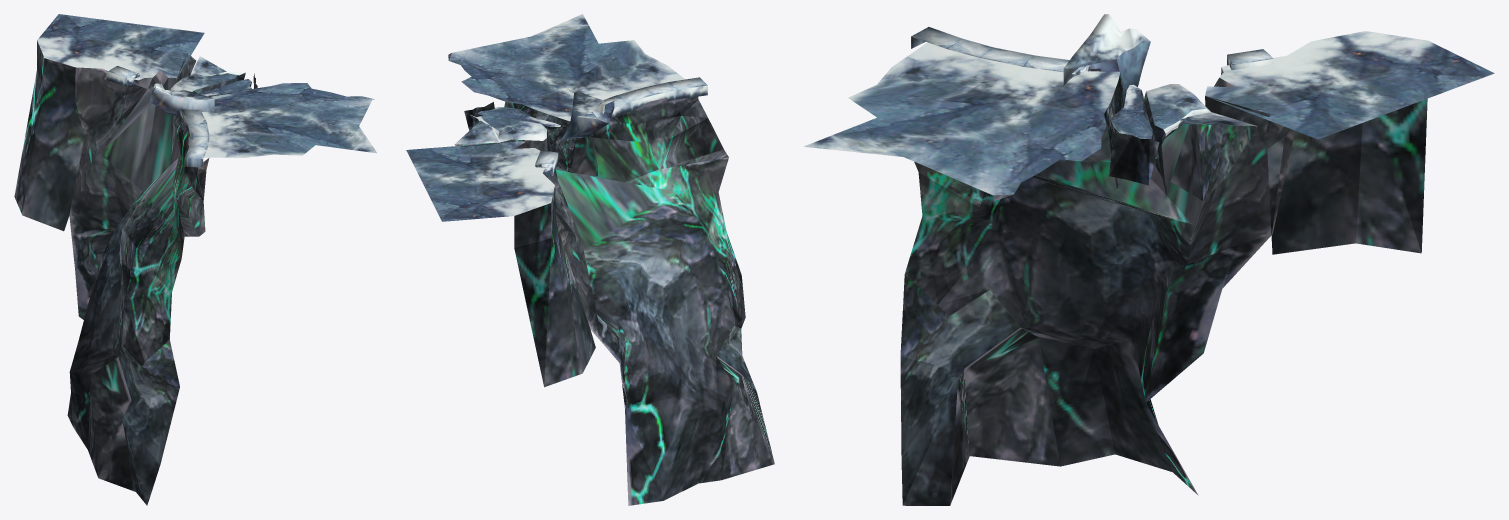
Rendered from S_Build_Snowland206_6.FBX.
3 views of the same model, side by side, from view 1: azimuth 30°, elevation 25°; view 2: azimuth 150°, elevation 25°; view 3: azimuth 270°, elevation 25° (orthographic). The views are drawn at different scales.
Parts seen in each view (by area): view 1: S_Build_Snowland206_6; view 2: S_Build_Snowland206_6; view 3: S_Build_Snowland206_6.
Boxes of the visible parts, box(x1,y1,x2,y2) form: S_Build_Snowland206_6: box(14, 14, 376, 505); S_Build_Snowland206_6: box(406, 14, 774, 505); S_Build_Snowland206_6: box(804, 14, 1494, 505).
Bounding box in the file's own units: 762 × 1030 × 899.
